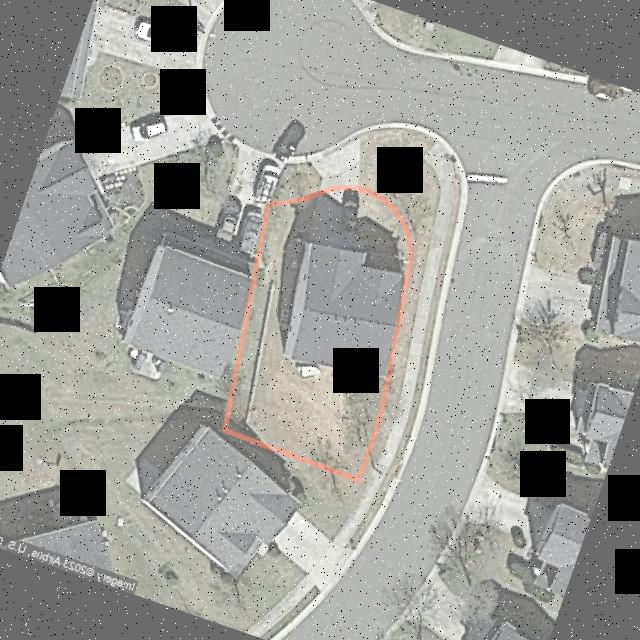Driveway: (310, 190, 357, 246)
Extra Driveway: (311, 138, 361, 189)
Extra Lawn: (358, 127, 439, 482), (380, 174, 459, 487), (269, 161, 318, 199)
Extra Sidewalk: (364, 141, 457, 486)
House: (282, 239, 402, 374)
